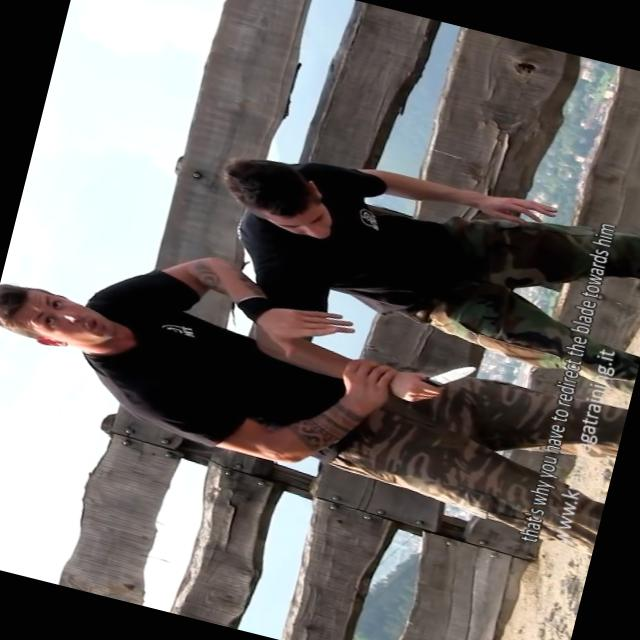knife: (392, 345, 482, 417)
